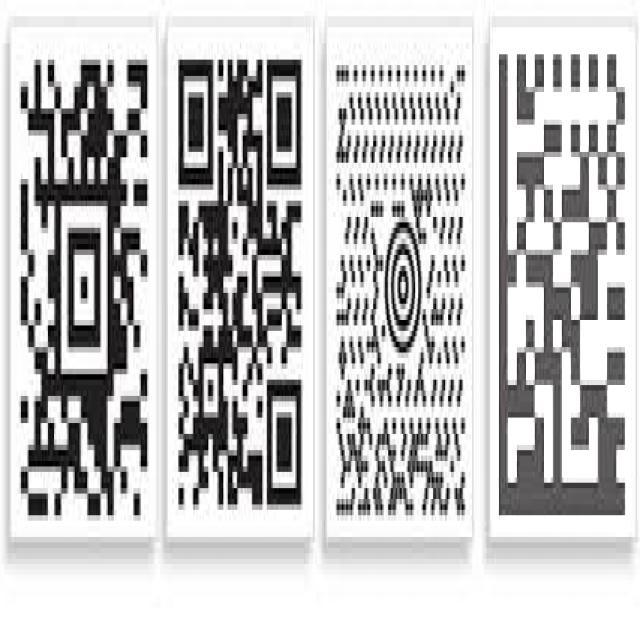Data-Matrix: (493, 32, 631, 532)
